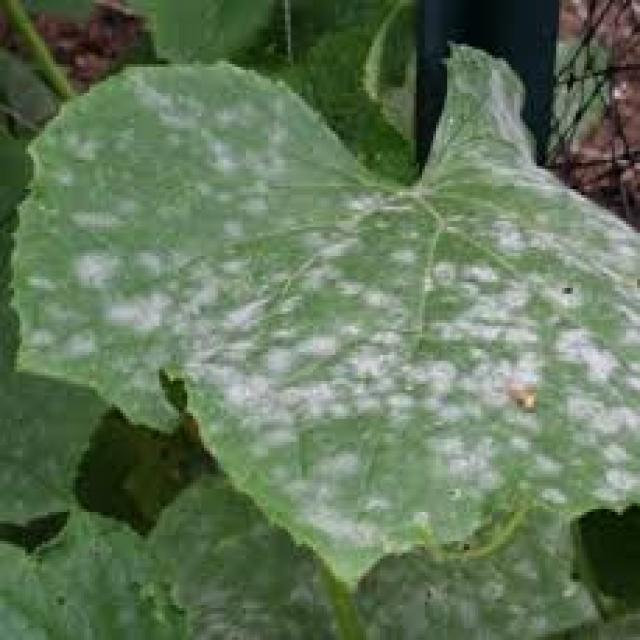powdery_mildew: (31, 72, 640, 559)
